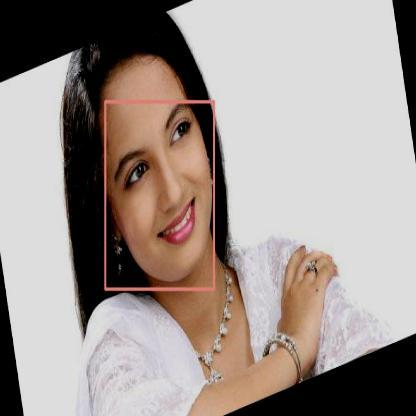without_mask: (105, 101, 214, 289)
